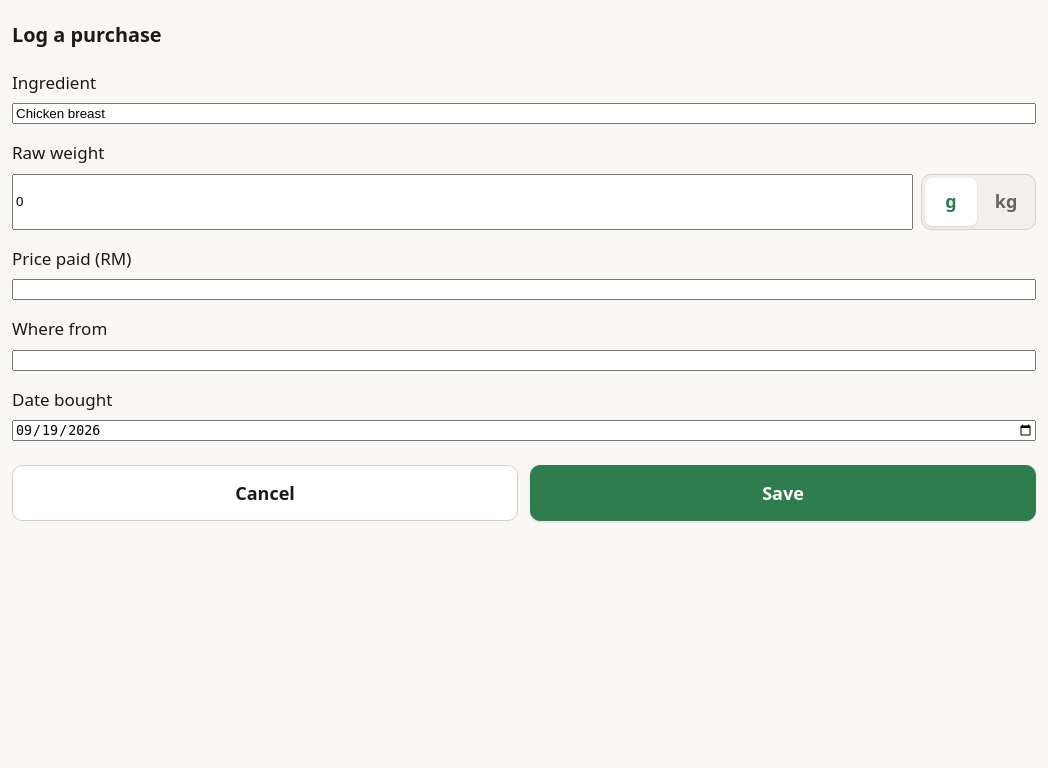
Test: AddBatchForm creating › requires a weight
Click the button "Save" at [783, 493], box [530,465,1036,521]
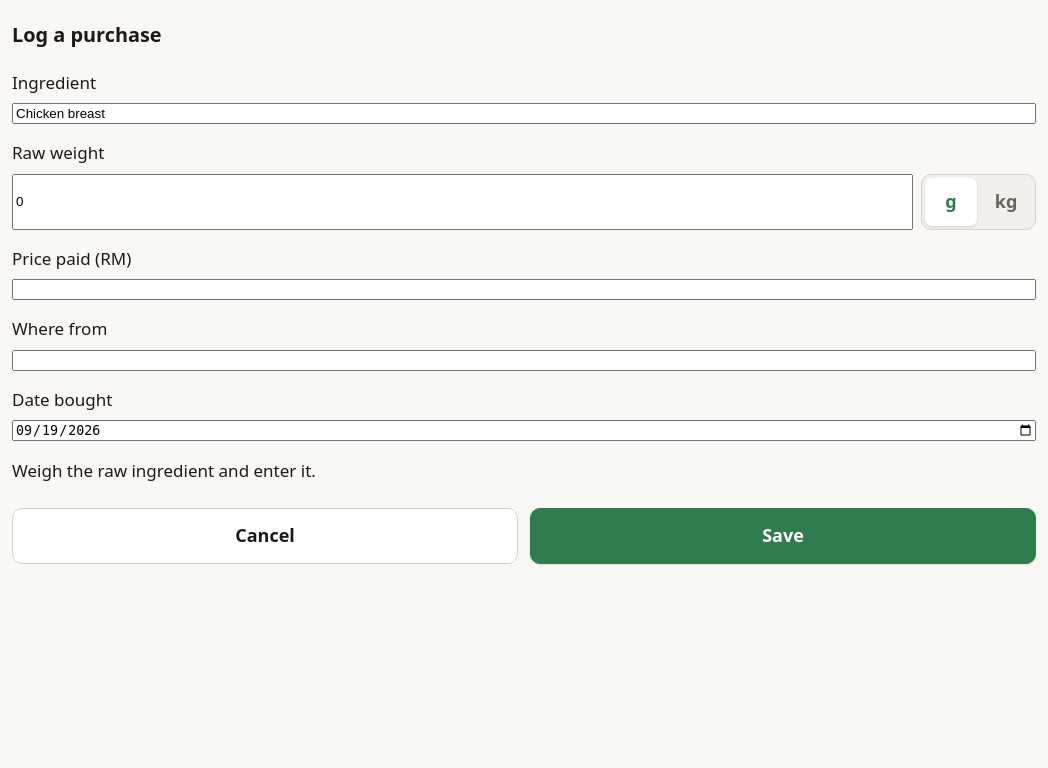
Result: the message shows "Weigh" at [12,459,316,482]
